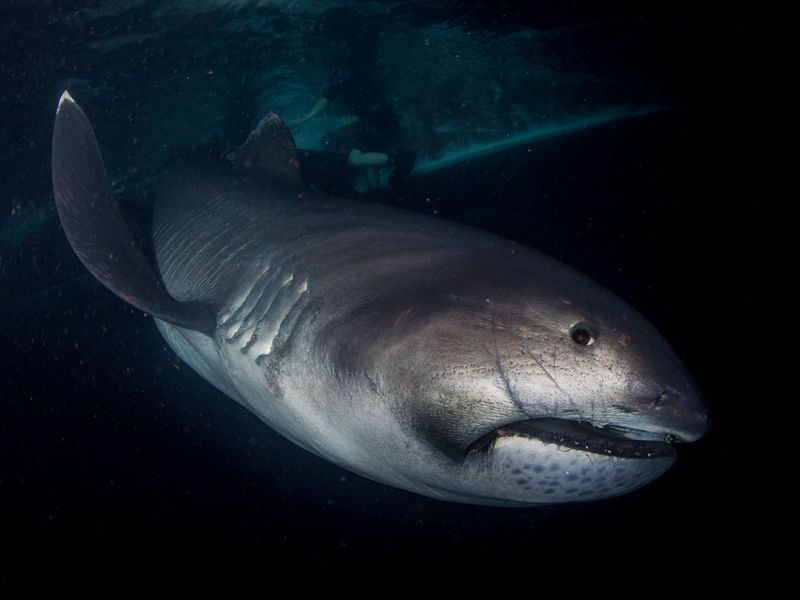shark: (47, 81, 707, 507)
